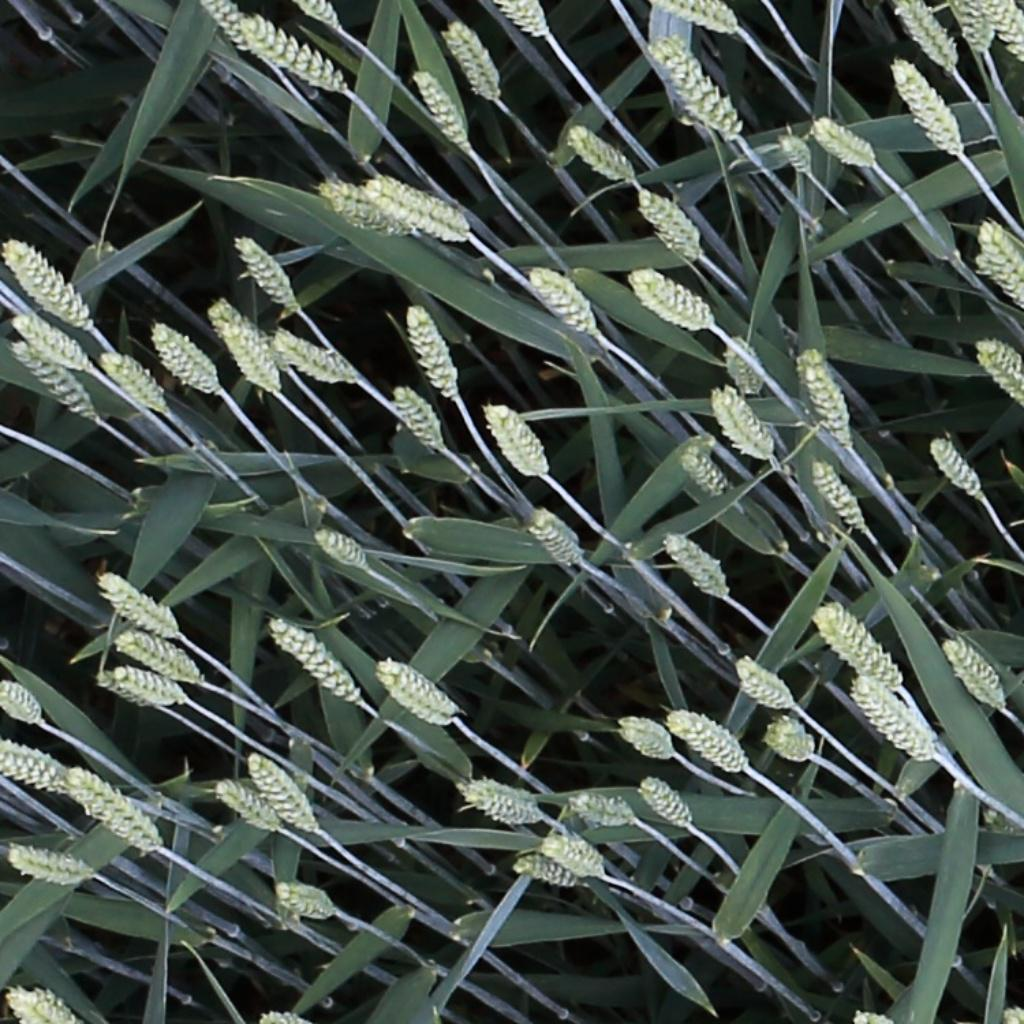0-0: (648, 36, 744, 142), (264, 615, 362, 706), (2, 233, 92, 331), (887, 53, 966, 157), (62, 765, 157, 851), (241, 16, 342, 94), (813, 604, 902, 692), (207, 303, 283, 397), (365, 177, 470, 245), (9, 338, 95, 421), (849, 677, 932, 761), (795, 344, 856, 454), (228, 232, 301, 315), (401, 297, 458, 402), (479, 398, 550, 481), (243, 750, 319, 827), (377, 657, 459, 728), (406, 65, 471, 152), (94, 573, 177, 640), (629, 267, 714, 332), (939, 636, 1008, 716), (525, 263, 598, 337), (439, 17, 499, 105), (633, 187, 704, 260), (707, 383, 772, 462), (318, 178, 406, 236), (806, 456, 869, 536), (144, 319, 214, 391), (892, 0, 959, 75), (664, 710, 744, 772), (976, 215, 1024, 318), (660, 531, 729, 602), (9, 311, 90, 370), (94, 349, 163, 415), (111, 633, 199, 684), (268, 331, 354, 382), (3, 843, 95, 890), (0, 739, 72, 797), (387, 380, 443, 454), (93, 662, 187, 706), (927, 431, 985, 502), (454, 775, 537, 824), (565, 124, 633, 181), (197, 0, 258, 58), (977, 341, 1024, 416), (211, 783, 278, 835), (636, 776, 693, 834), (525, 509, 580, 569), (731, 658, 793, 711), (811, 116, 875, 165), (659, 0, 743, 37), (719, 331, 764, 400), (981, 0, 1024, 69), (540, 831, 603, 877), (613, 713, 674, 760), (512, 848, 578, 890), (5, 988, 81, 1024), (677, 446, 726, 499), (271, 879, 333, 918), (0, 679, 45, 729), (774, 125, 816, 178), (954, 0, 993, 57), (311, 531, 367, 570), (763, 717, 813, 760), (572, 791, 633, 826), (499, 0, 547, 39), (299, 0, 342, 35)
